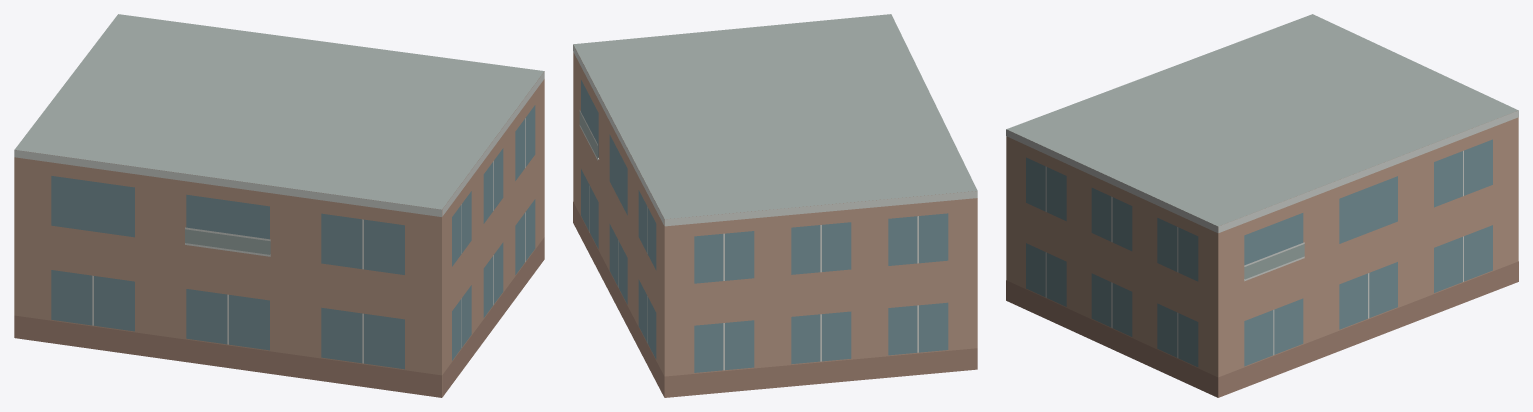
The model's file is survey-upis-32586697.glb.
3 renders of one model, left to right at view 1: azimuth 30°, elevation 25°; view 2: azimuth 150°, elevation 25°; view 3: azimuth 270°, elevation 25°, orthographic. The views are drawn at different scales.
Parts seen in each view (by area): view 1: survey-upis-32586697.tmp; view 2: survey-upis-32586697.tmp; view 3: survey-upis-32586697.tmp.
Boxes of the visible parts, x1,y1,x2,y2 form: survey-upis-32586697.tmp: (14, 14, 544, 397); survey-upis-32586697.tmp: (573, 14, 977, 397); survey-upis-32586697.tmp: (1006, 14, 1518, 397).
Bounding box in the file's own units: 16.23 × 6.1 × 16.54.
